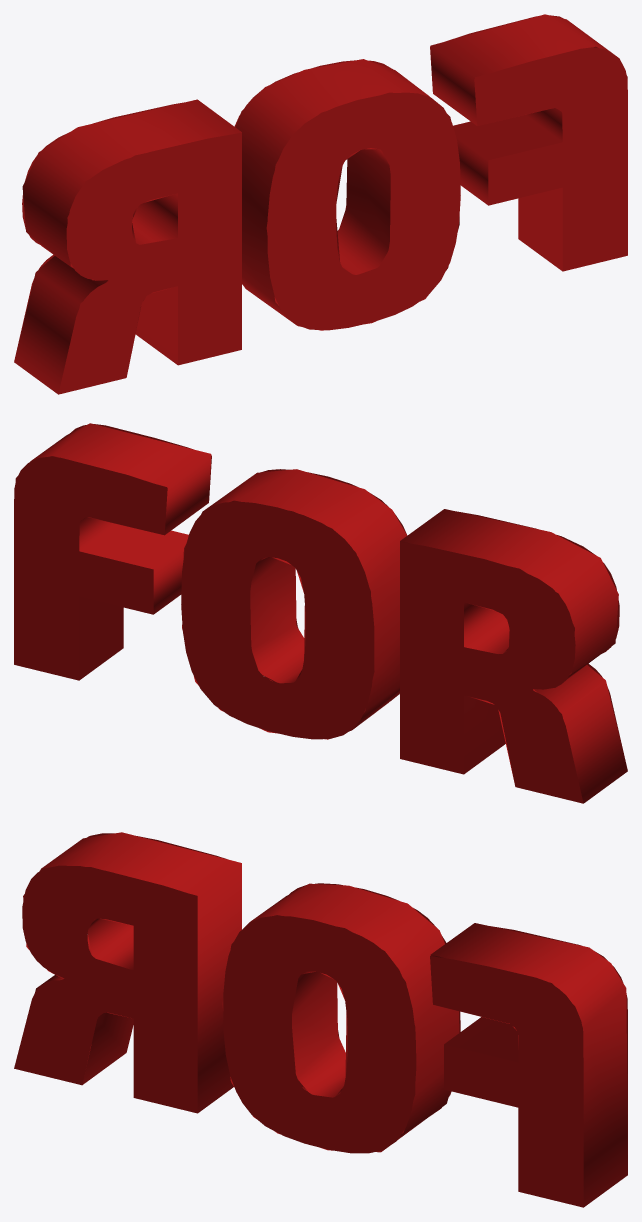
The model's file is for.fbx.
The picture shows the model from 3 angles, top to bottom: view 1: azimuth 30°, elevation 25°; view 2: azimuth 150°, elevation 25°; view 3: azimuth 330°, elevation 25°; orthographic projection.
Parts seen in each view (by area): view 1: Text; view 2: Text; view 3: Text.
Boxes of the visible parts, bbox=[...] form: Text: bbox=[14, 14, 627, 394]; Text: bbox=[14, 423, 627, 803]; Text: bbox=[14, 832, 627, 1207].
Size of the model in its own units: 5.93 by 2.26 by 0.8.
